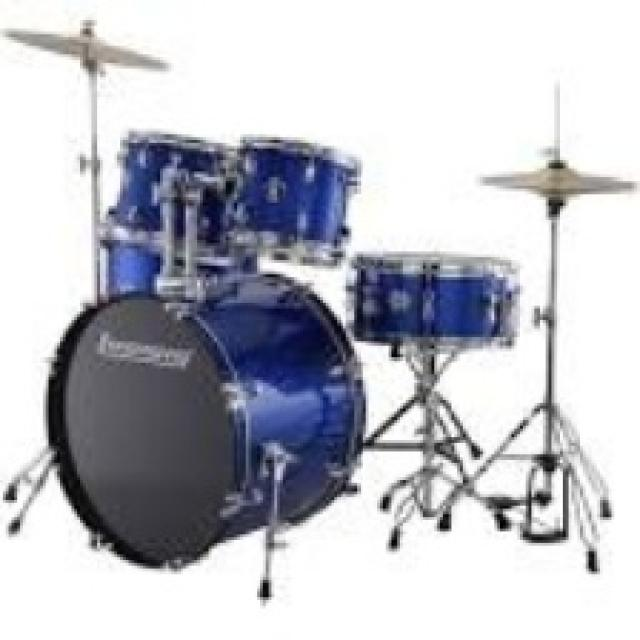drums: (0, 16, 640, 583)
